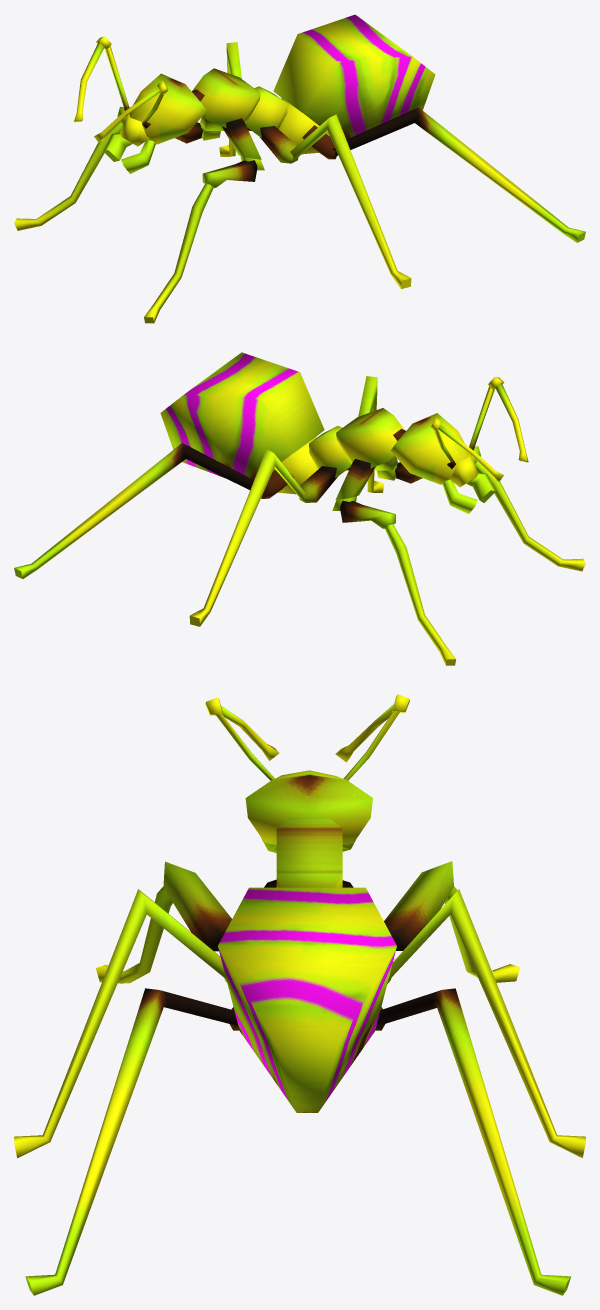
3 views of the same model, one above another, from view 1: azimuth 30°, elevation 25°; view 2: azimuth 150°, elevation 25°; view 3: azimuth 270°, elevation 25° (orthographic). The views are drawn at different scales.
Parts seen in each view (by area): view 1: Ant; view 2: Ant; view 3: Ant.
Boxes of the visible parts, x1,y1,x2,y2 form: Ant: (14, 14, 585, 323); Ant: (14, 352, 585, 665); Ant: (14, 694, 585, 1295).
Bounding box in the file's own units: 68.96 × 32.58 × 52.04.
